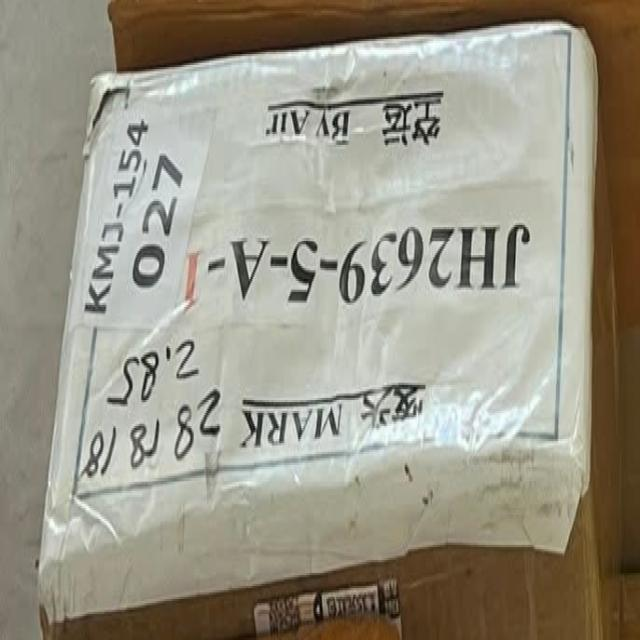carton_box: (21, 32, 626, 640)
export_mark_label: (54, 64, 626, 564)
package_damage: (78, 67, 138, 142)
